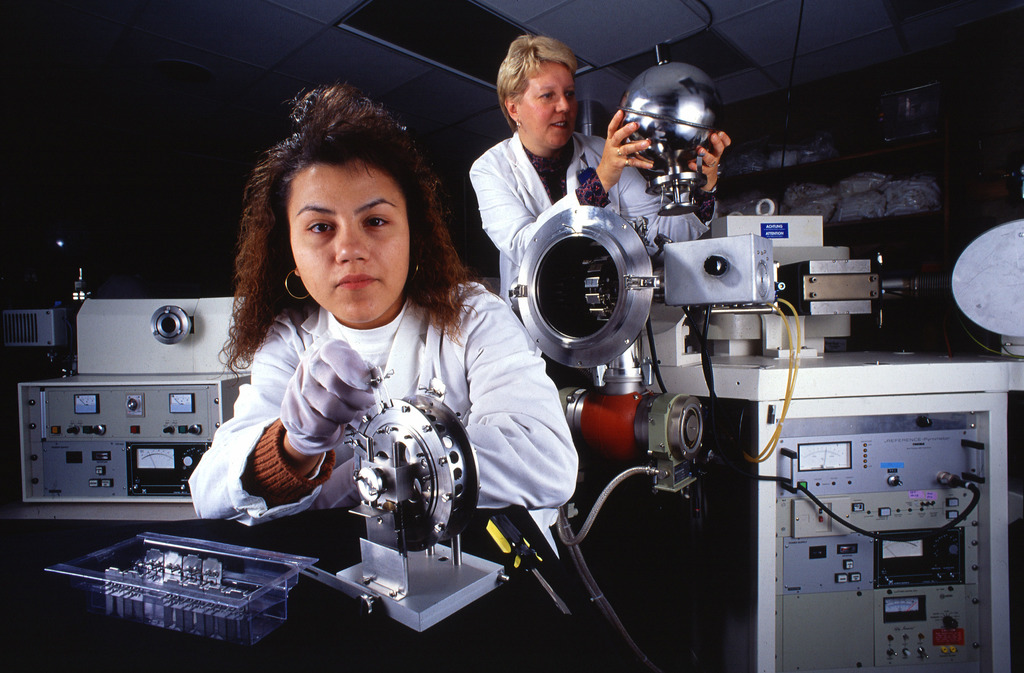Person: (188, 82, 579, 563), (469, 31, 730, 309)
